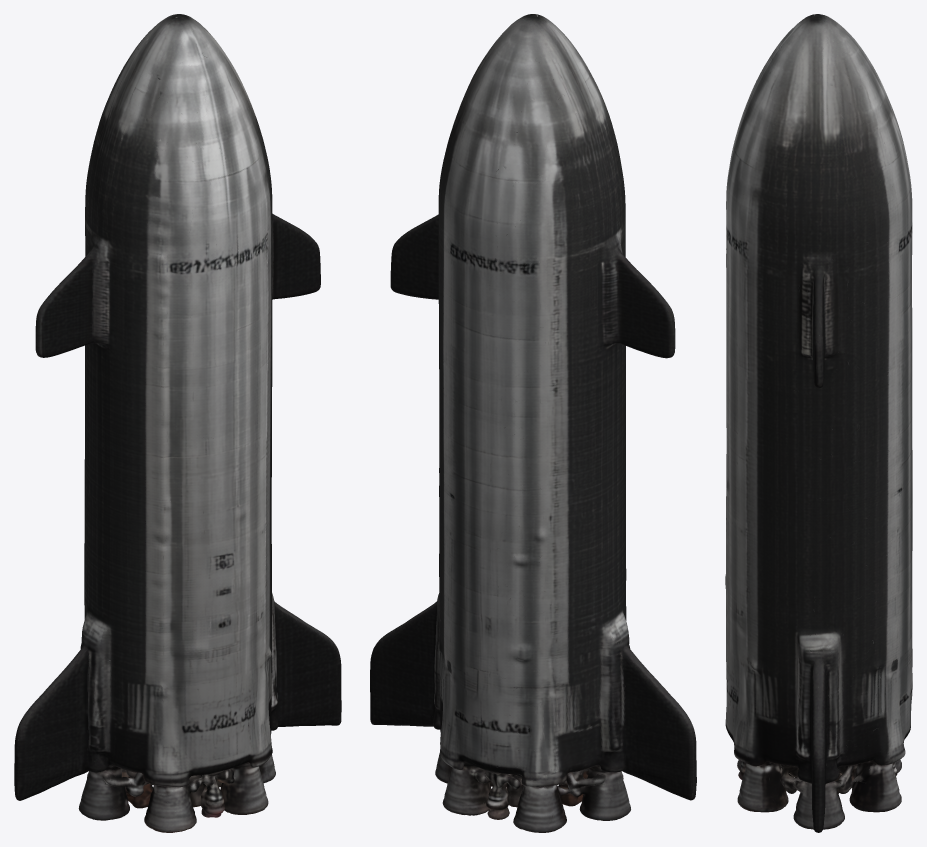
The model's file is SM_Starship_Placeholder.glb.
The picture shows the model from 3 angles, left to right: view 1: azimuth 30°, elevation 25°; view 2: azimuth 150°, elevation 25°; view 3: azimuth 270°, elevation 25°; orthographic projection.
Visible parts, largest first — view 1: world; view 2: world; view 3: world.
Boxes of the visible parts, x1,y1,x2,y2 form: world: (14, 14, 341, 832); world: (370, 14, 696, 832); world: (725, 14, 912, 832).
Bounding box in the file's own units: 0.4375 × 1 × 0.2208.
1 material, 1 textured.
